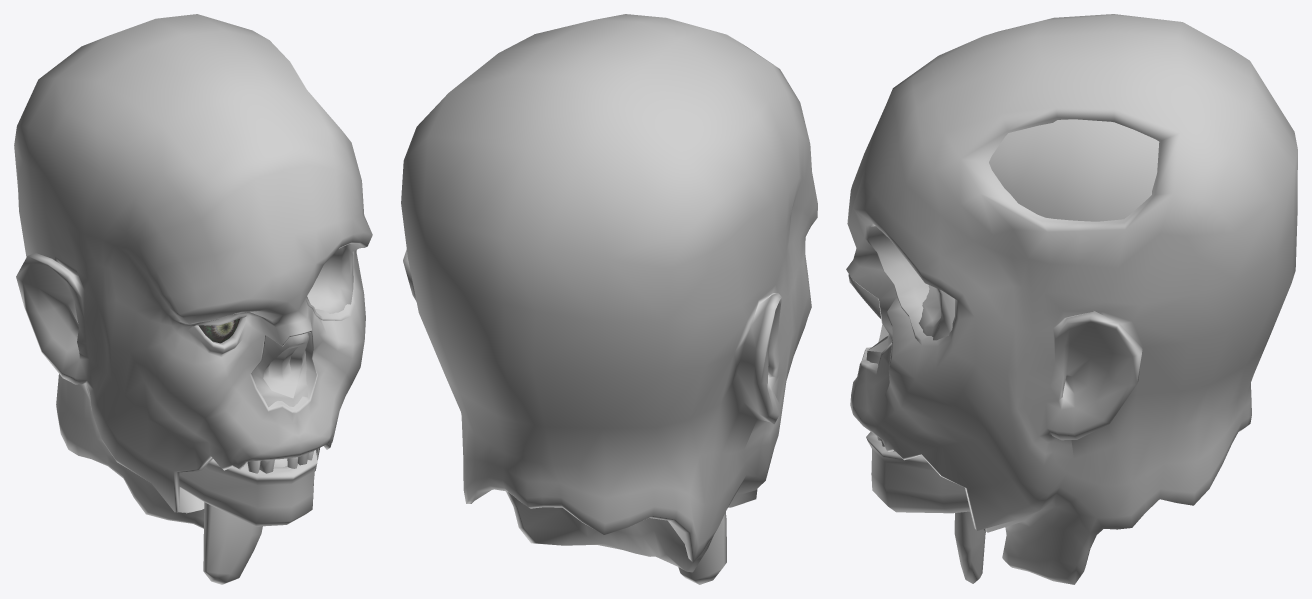
File: Head_Only_05.fbx
3 views of the same model, side by side, from view 1: azimuth 30°, elevation 25°; view 2: azimuth 150°, elevation 25°; view 3: azimuth 270°, elevation 25° (orthographic). The views are drawn at different scales.
Visible parts, largest first — view 1: Head_Only_05, Jaw_Bone, Tongue3; view 2: Head_Only_05, Tongue3; view 3: Head_Only_05, Jaw_Bone, Tongue3.
Boxes of the visible parts, box(x1,y1,x2,y2) form: Head_Only_05: box(14, 14, 372, 528); Jaw_Bone: box(179, 450, 317, 526); Tongue3: box(203, 462, 262, 584); Head_Only_05: box(401, 14, 817, 572); Tongue3: box(678, 512, 726, 584); Head_Only_05: box(846, 14, 1297, 584); Jaw_Bone: box(866, 431, 970, 513); Tongue3: box(954, 511, 985, 583).
Bounding box in the file's own units: 17.79 × 27.36 × 19.98.
